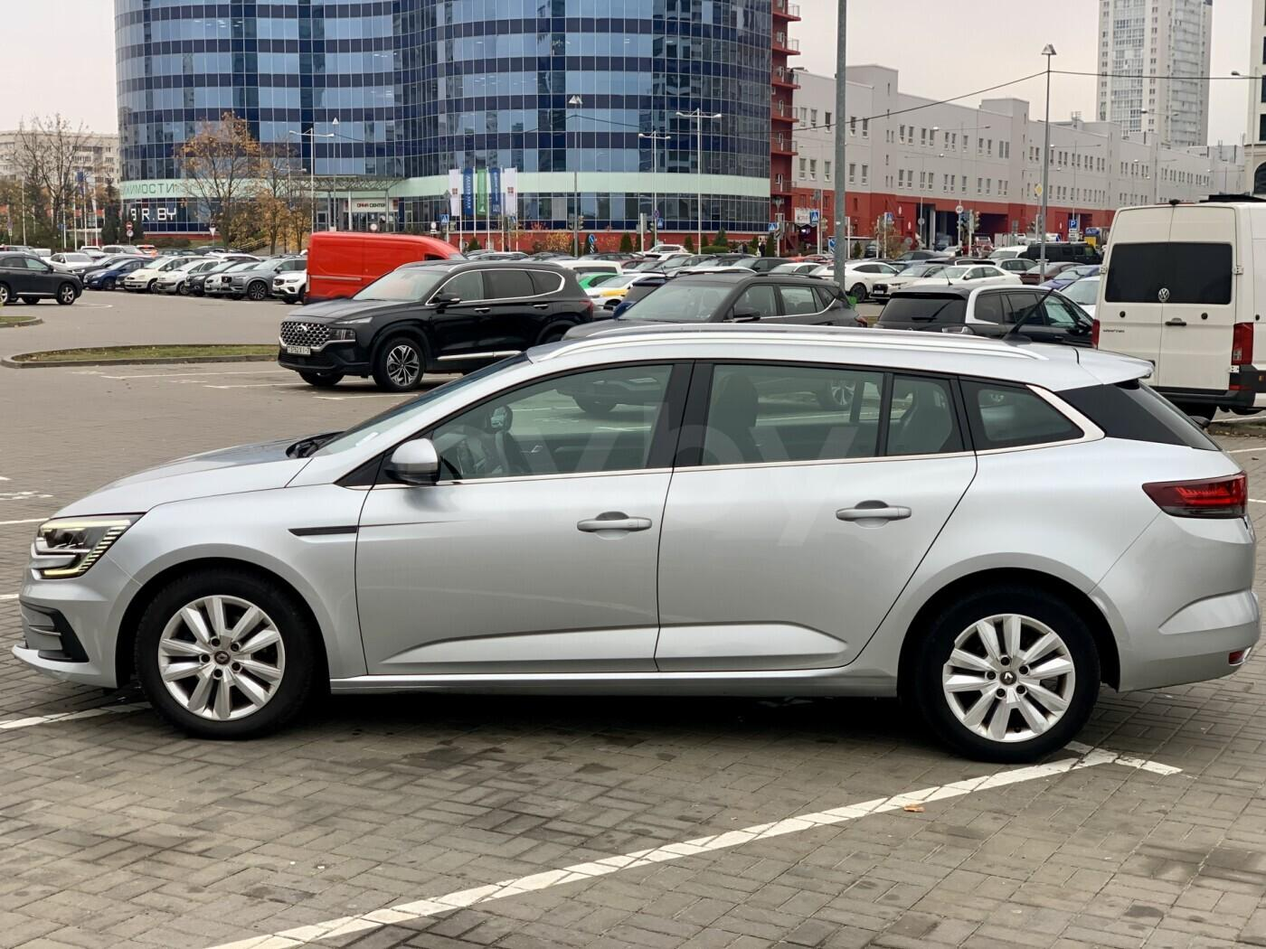Megane_2020: (19, 321, 1265, 768)
